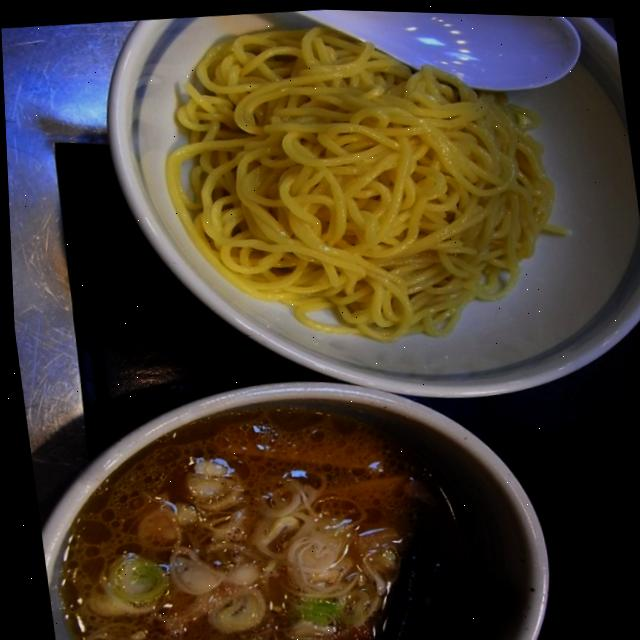面条主食: (0, 14, 604, 640)
